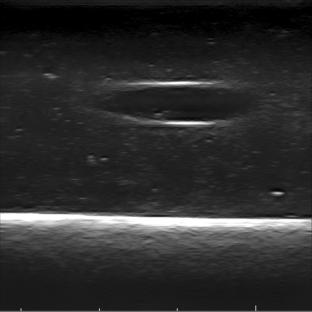vessel: (99, 80, 249, 126)
